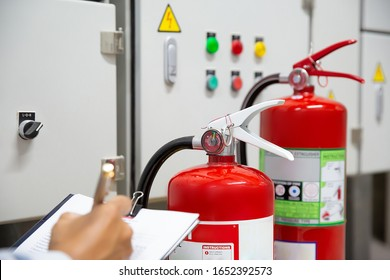fire_extinguisher: (239, 39, 365, 260), (133, 99, 294, 260)
